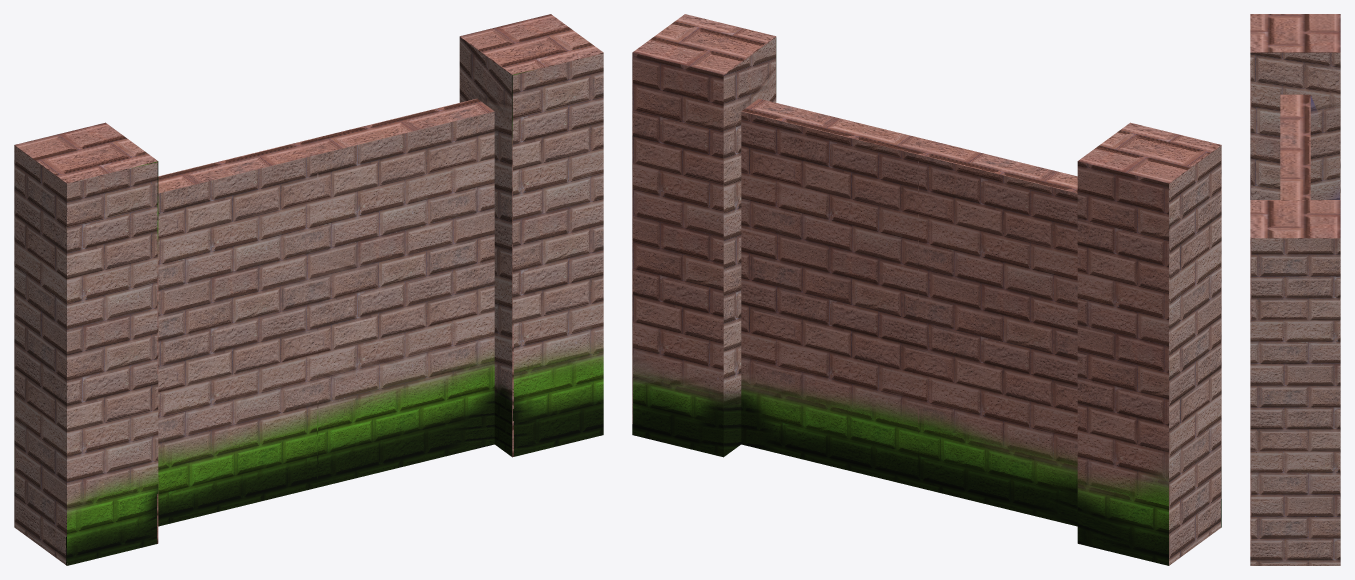
Rendered from Wall.fbx.
The picture shows the model from 3 angles, left to right: view 1: azimuth 30°, elevation 25°; view 2: azimuth 150°, elevation 25°; view 3: azimuth 270°, elevation 25°; orthographic projection. The views are drawn at different scales.
Parts seen in each view (by area): view 1: Wall; view 2: Wall; view 3: Wall.
Boxes of the visible parts, bbox=[...] form: Wall: bbox=[14, 14, 603, 565]; Wall: bbox=[632, 14, 1221, 565]; Wall: bbox=[1250, 14, 1340, 565].
Bounding box in the file's own units: 294 × 200 × 50.
